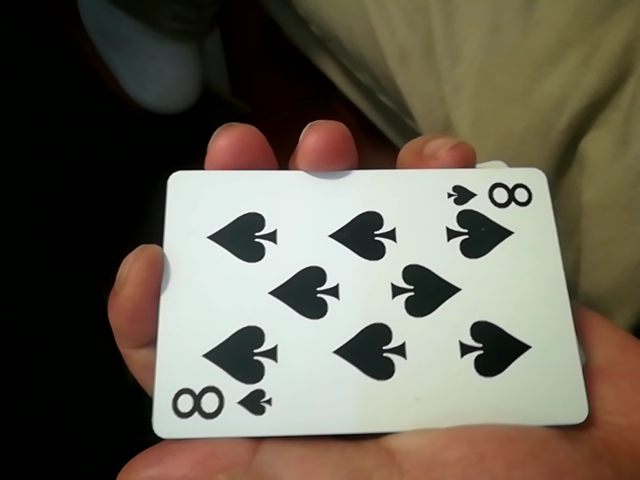ht 8: (124, 153, 571, 457)
